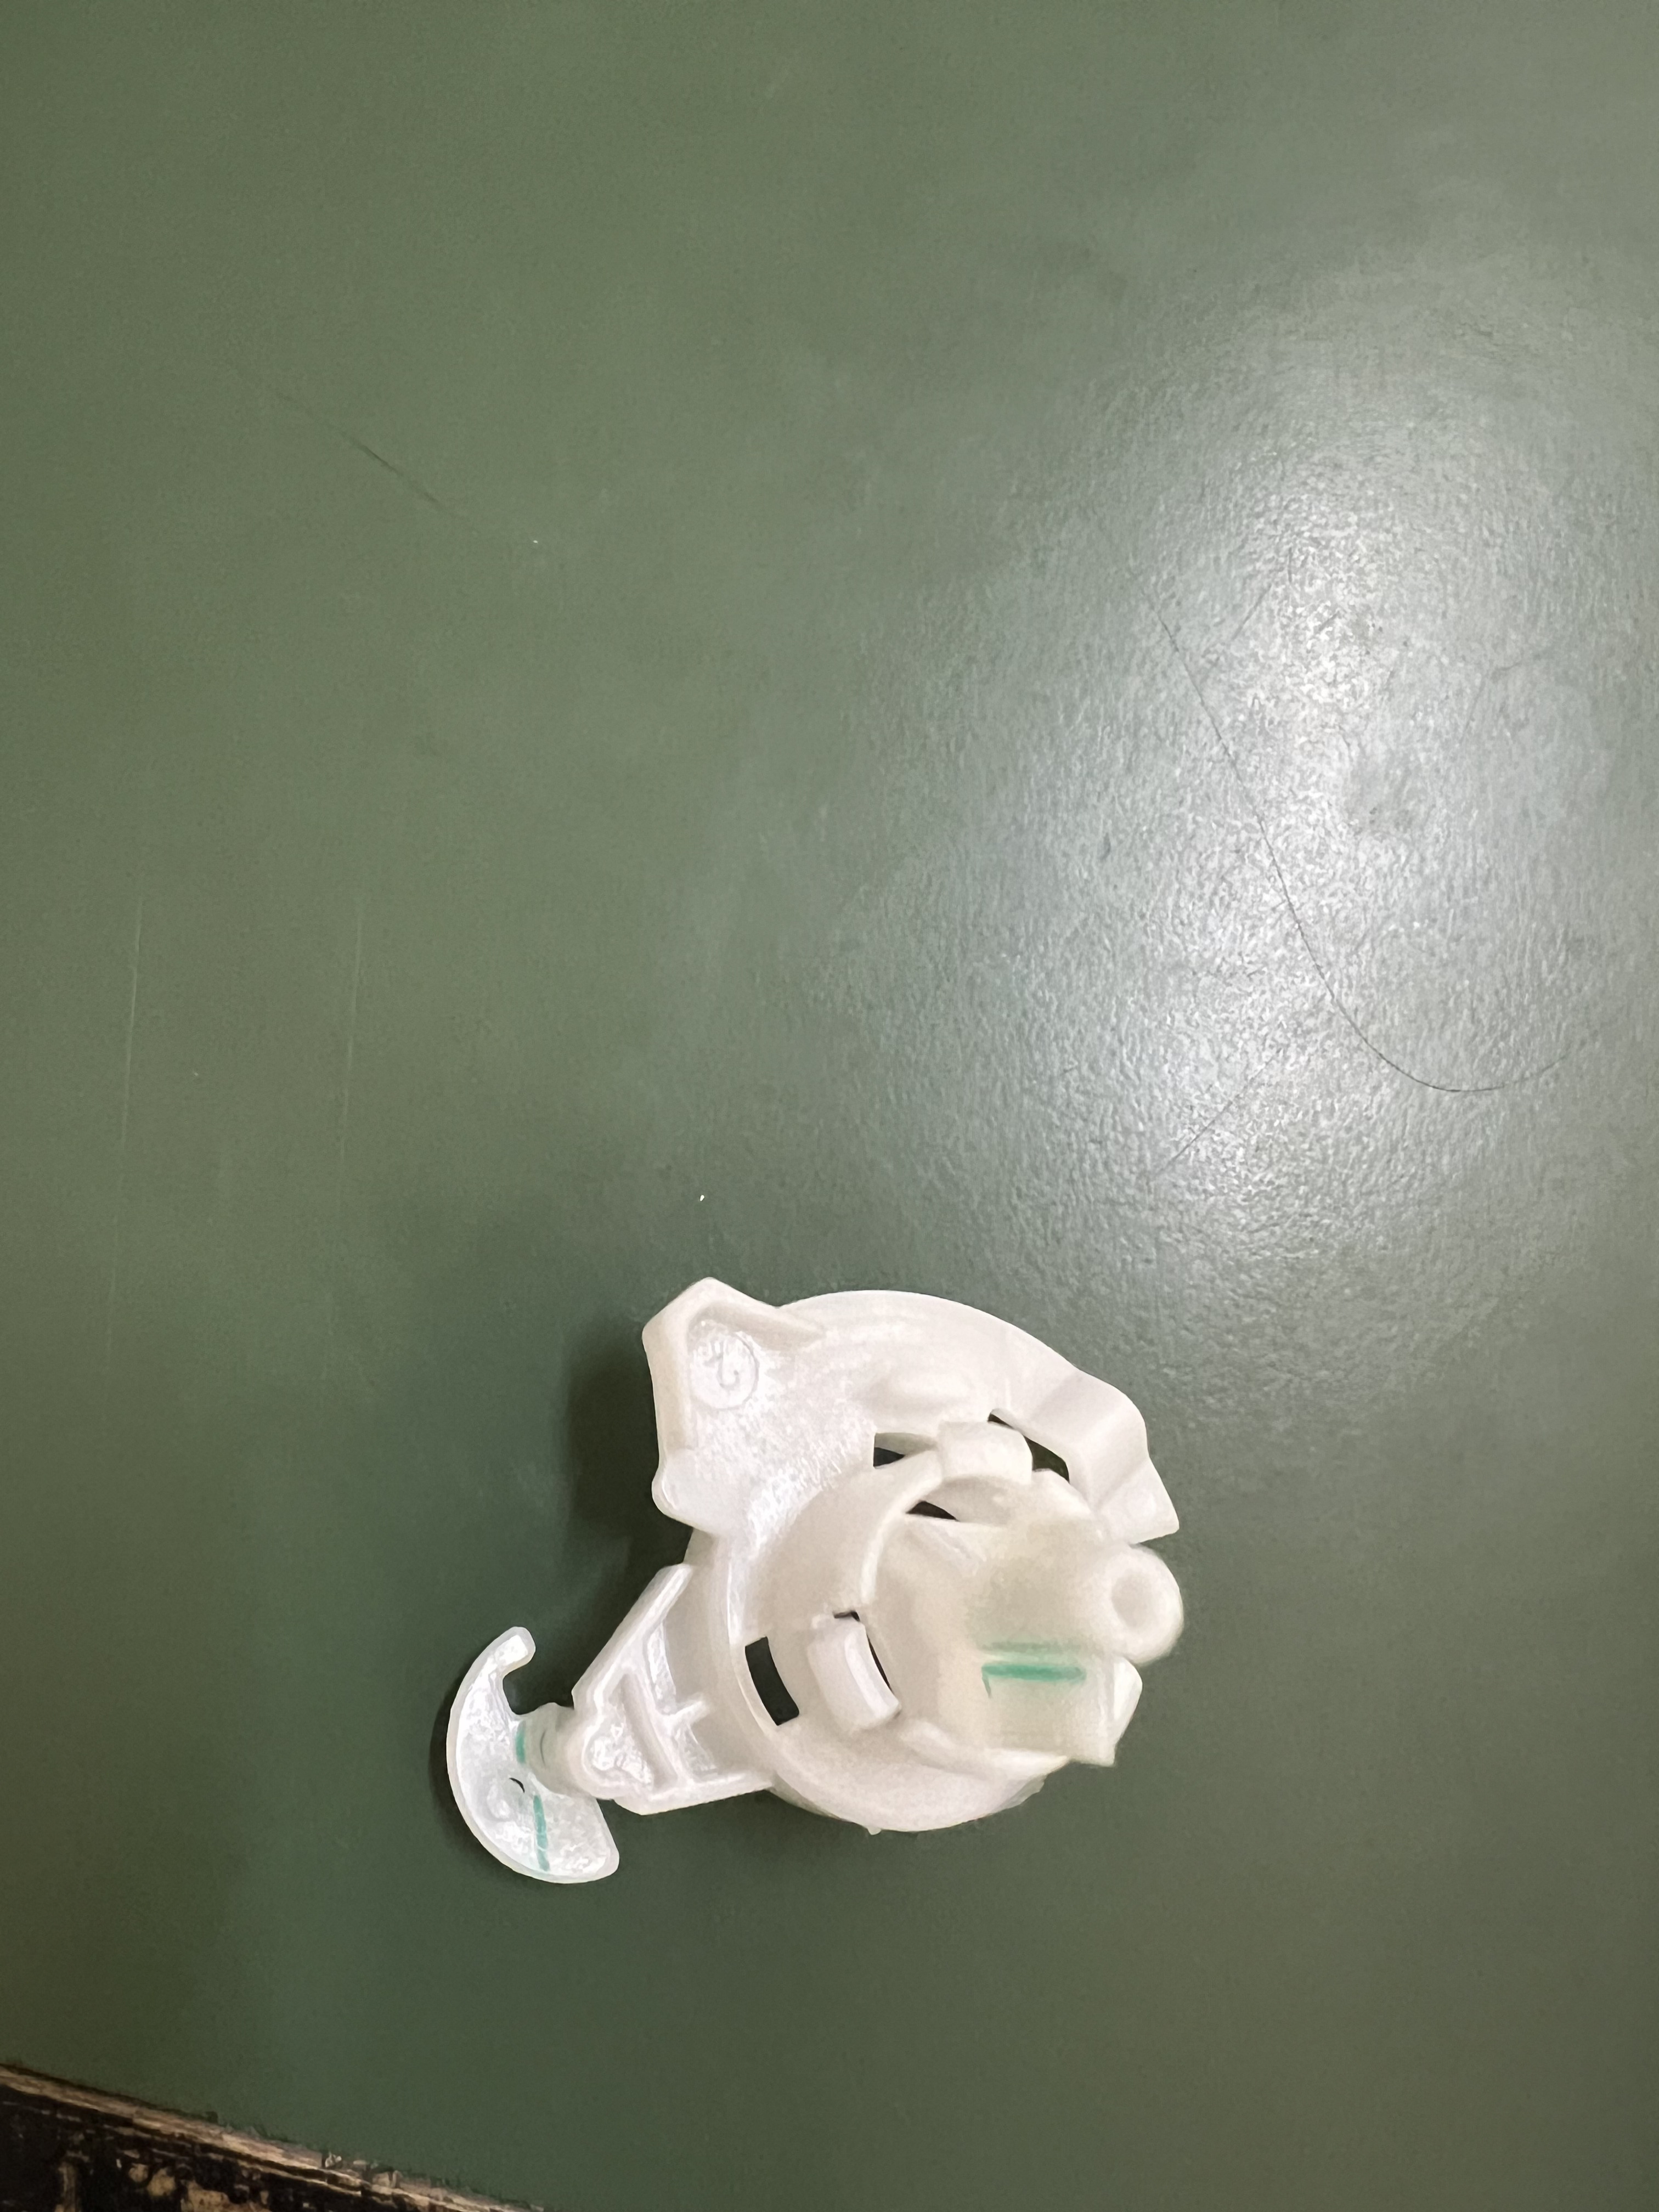drain_lever: (429, 1264, 1180, 1918)
